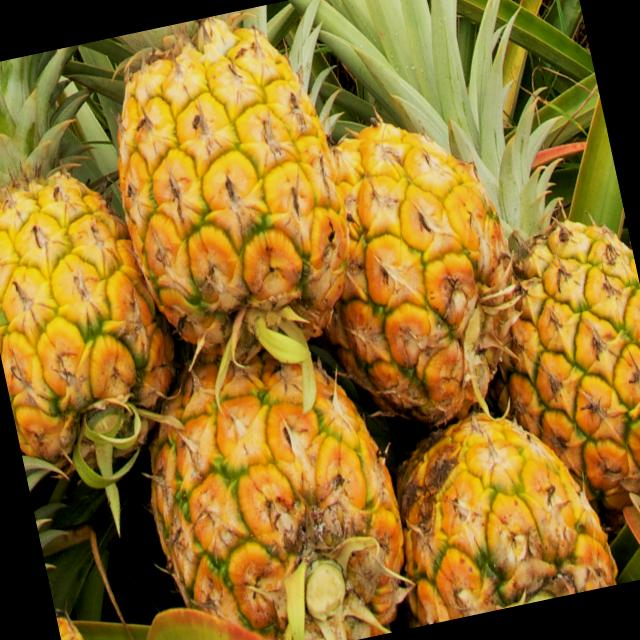pineapple: (89, 16, 364, 362), (128, 329, 426, 640), (291, 97, 527, 435), (0, 142, 193, 478), (459, 147, 640, 502), (377, 396, 616, 626)
